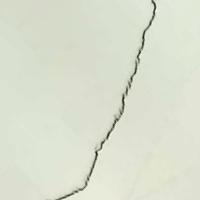crack: (54, 0, 157, 199)
